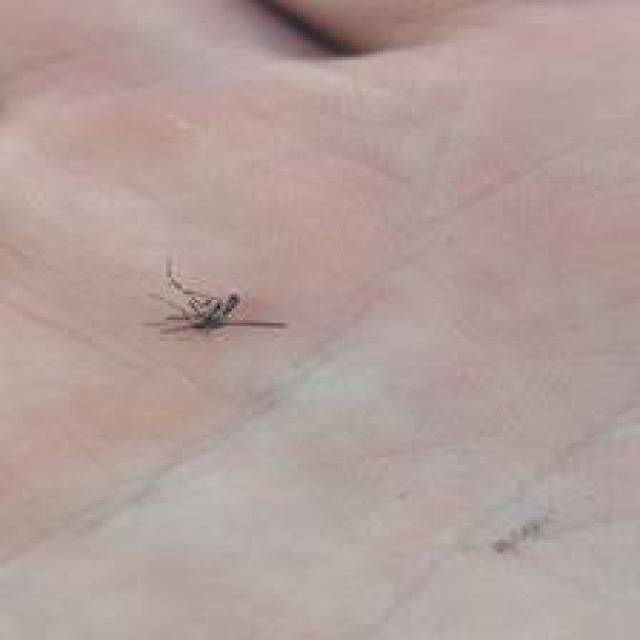Aedes albopictus: (142, 257, 287, 337)
